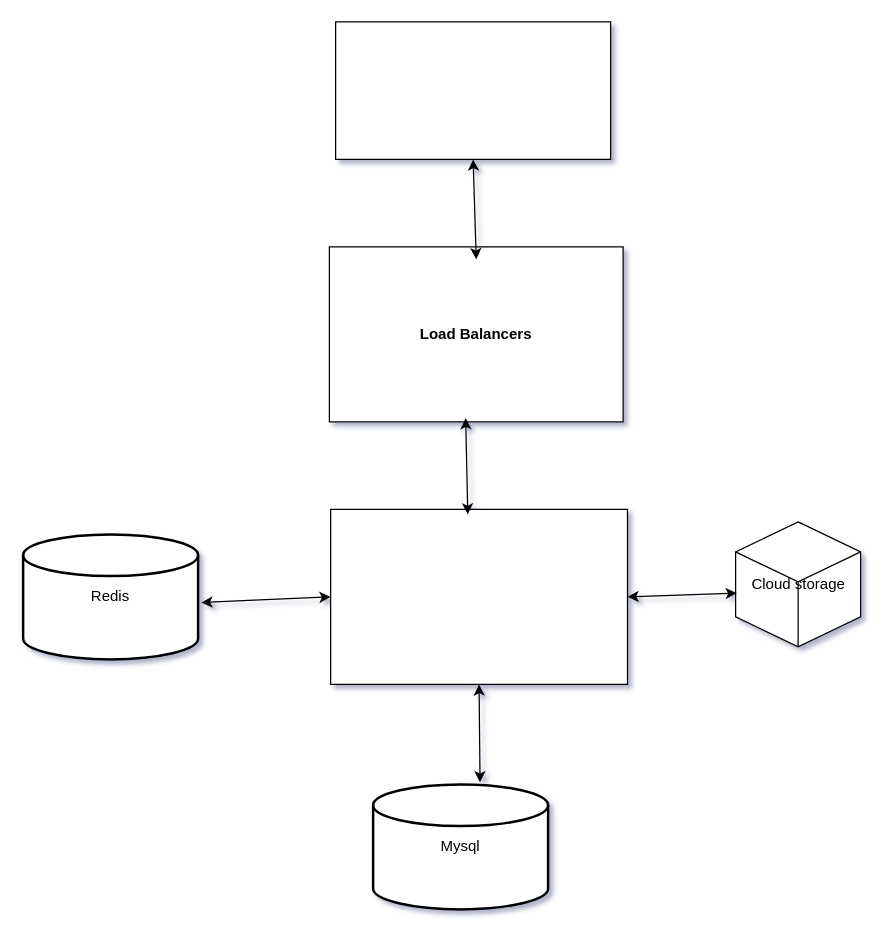
Image size: 890x940. Some labels were removed from this diagram. The shapes that lost their labels are listed below. From the top down, each one's box as (x1, y1, x2, y2) in pixels, then its label:
(334, 21, 611, 159): Client (Source system: Dealer, Ecommerce)
(329, 508, 628, 684): Backend Services
